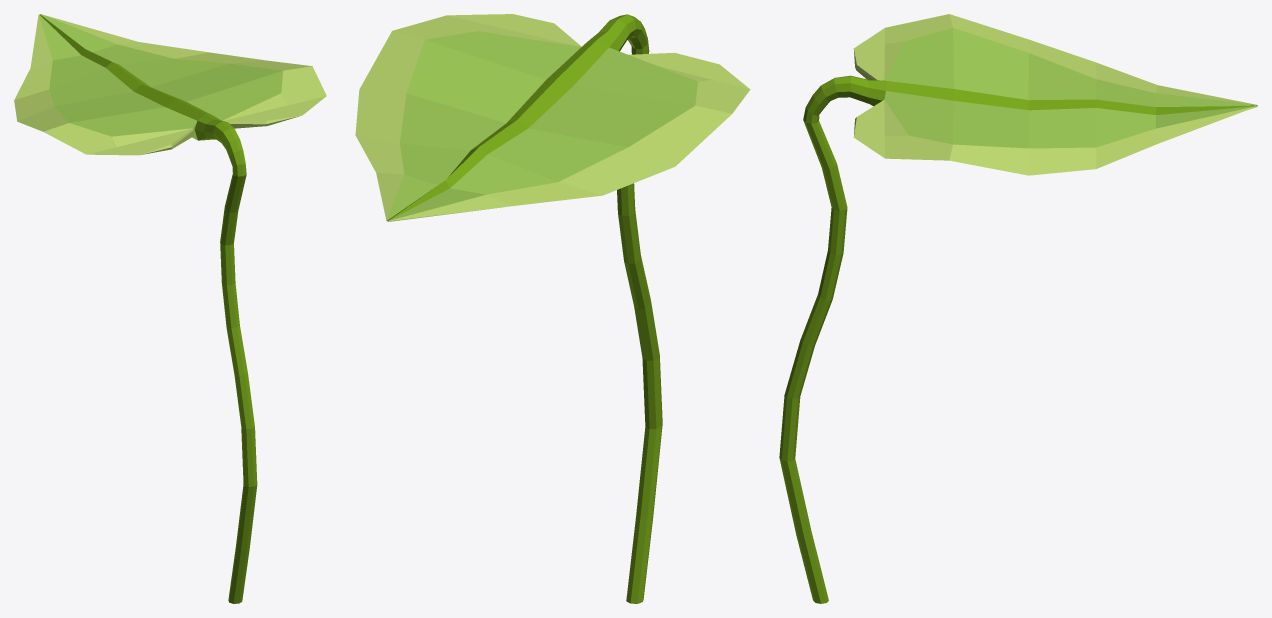
File: Leaf.fbx
3 views of the same model, side by side, from view 1: azimuth 30°, elevation 25°; view 2: azimuth 150°, elevation 25°; view 3: azimuth 270°, elevation 25° (orthographic). The views are drawn at different scales.
Visible parts, largest first — view 1: Leaf; view 2: Leaf; view 3: Leaf.
Boxes of the visible parts, x1,y1,x2,y2 form: Leaf: (14,14,326,603); Leaf: (355,14,750,603); Leaf: (779,14,1257,603).
Size of the model in its own units: 829 by 1382 by 1142.
